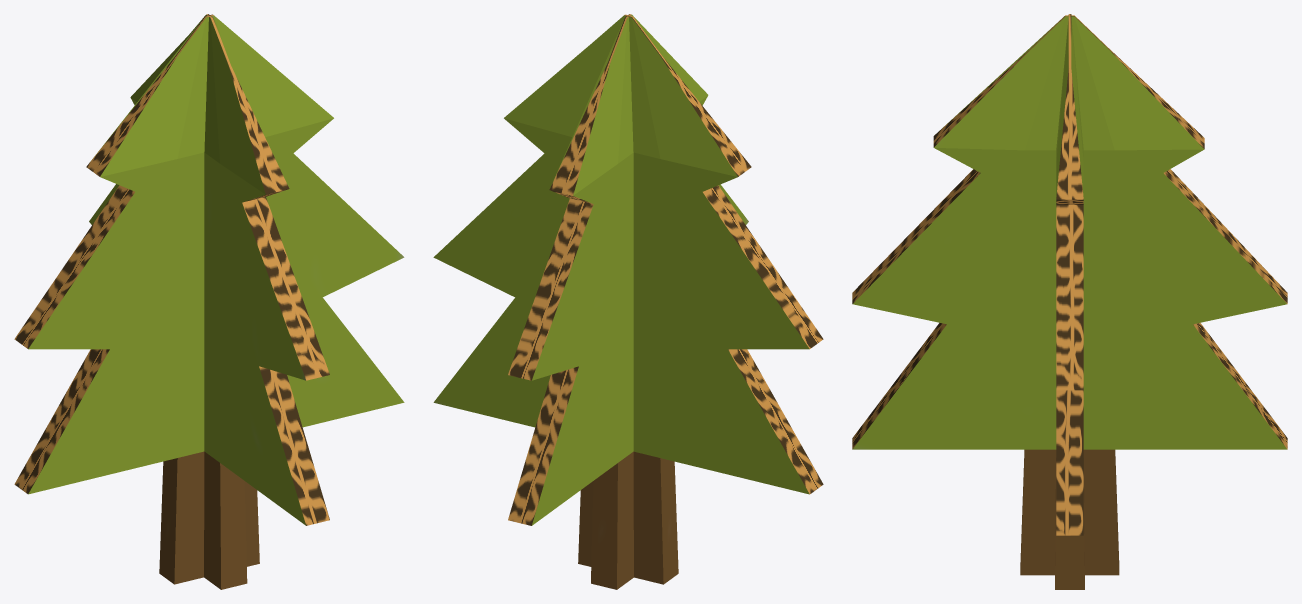
The model's file is baum_neu.fbx.
3 renders of one model, left to right at view 1: azimuth 30°, elevation 25°; view 2: azimuth 150°, elevation 25°; view 3: azimuth 270°, elevation 25°, orthographic.
Parts seen in each view (by area): view 1: Cube, Cube.001; view 2: Cube, Cube.001; view 3: Cube.001, Cube.
Boxes of the visible parts, <box> form: Cube: <box>14,14,404,584</box>; Cube.001: <box>89,14,329,589</box>; Cube: <box>433,14,823,584</box>; Cube.001: <box>508,14,748,589</box>; Cube.001: <box>852,15,1287,575</box>; Cube: <box>1055,14,1084,589</box>.
Bounding box in the file's own units: 286 × 401 × 286.
Materials: 1 (1 with a texture image).
